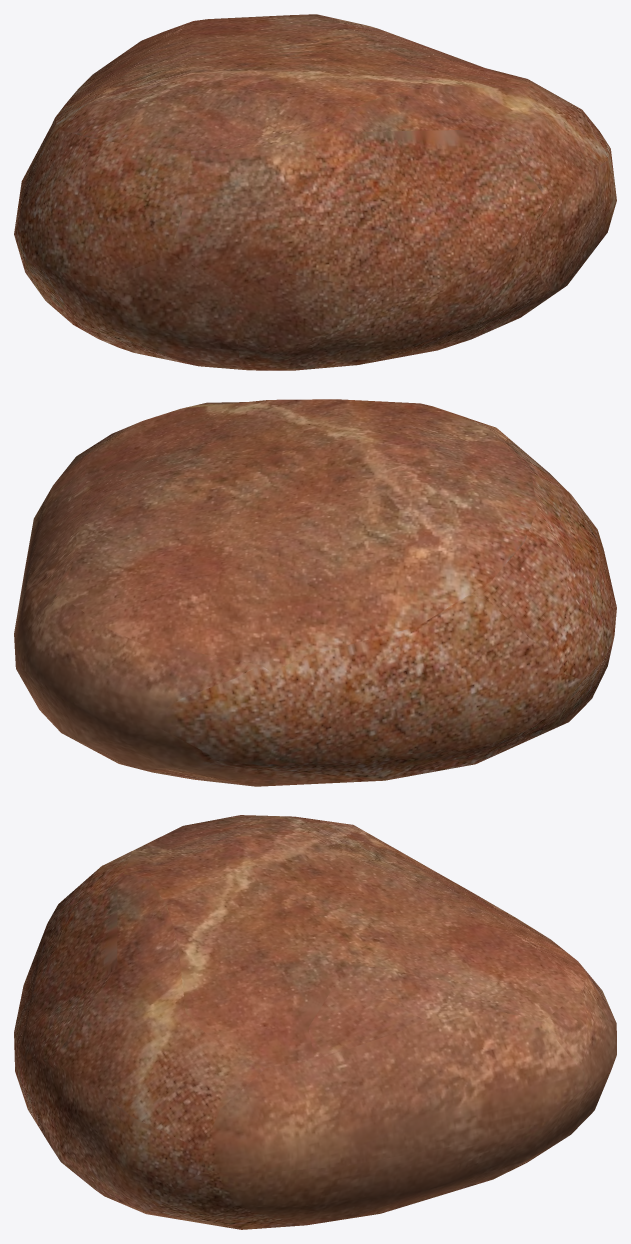
Rendered from pebble-1.glb.
3 renders of one model, top to bottom at view 1: azimuth 30°, elevation 25°; view 2: azimuth 150°, elevation 25°; view 3: azimuth 270°, elevation 25°, orthographic. The views are drawn at different scales.
Visible parts, largest first — view 1: tripo_node_3c70e1b2-f517-4ff0-a827-04f095e64d69; view 2: tripo_node_3c70e1b2-f517-4ff0-a827-04f095e64d69; view 3: tripo_node_3c70e1b2-f517-4ff0-a827-04f095e64d69.
Boxes of the visible parts, box(x1,y1,x2,y2) form: tripo_node_3c70e1b2-f517-4ff0-a827-04f095e64d69: box(14, 14, 616, 370); tripo_node_3c70e1b2-f517-4ff0-a827-04f095e64d69: box(14, 399, 616, 786); tripo_node_3c70e1b2-f517-4ff0-a827-04f095e64d69: box(14, 815, 616, 1229).
Size of the model in its own units: 0.4759 by 0.2216 by 0.4451.
Materials: 1 (1 with a texture image).
